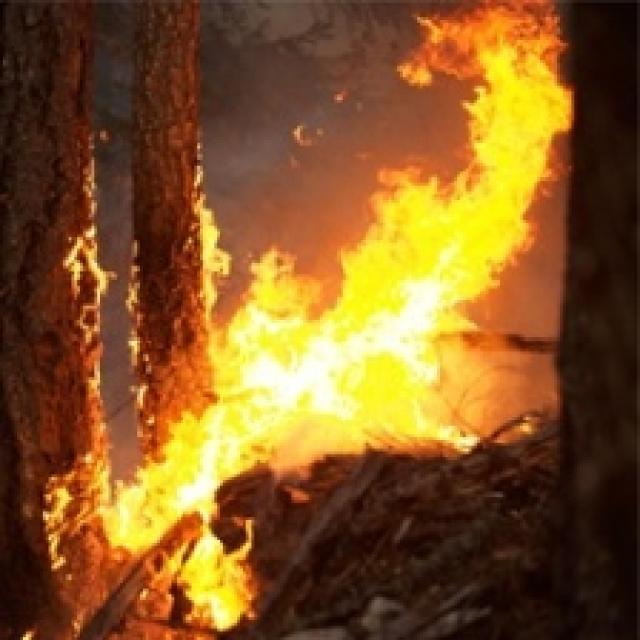Fire: (343, 11, 574, 334), (212, 258, 344, 436), (115, 404, 219, 534), (346, 333, 452, 437), (173, 532, 257, 628), (201, 202, 232, 312)
